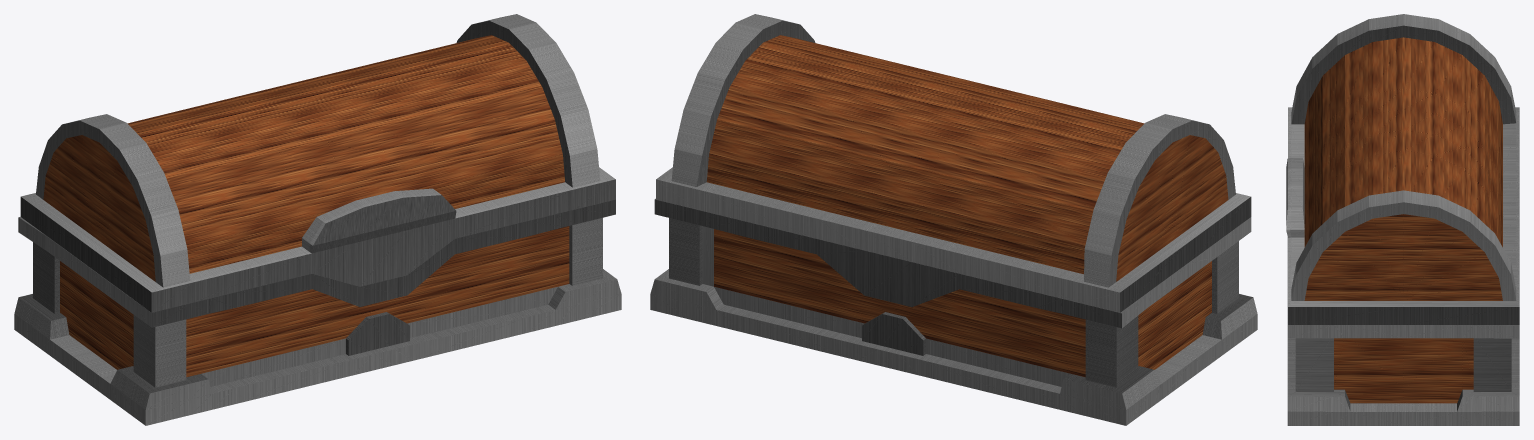
The model's file is Chest_2_1_1_Colored.fbx.
3 views of the same model, side by side, from view 1: azimuth 30°, elevation 25°; view 2: azimuth 150°, elevation 25°; view 3: azimuth 270°, elevation 25° (orthographic). The views are drawn at different scales.
Visible parts, largest first — view 1: Chest_Top, Chest_Bottom; view 2: Chest_Top, Chest_Bottom; view 3: Chest_Top, Chest_Bottom.
Part boxes in pixels (x1,y1,x2,y2): Chest_Top: (20, 14, 615, 312); Chest_Bottom: (14, 199, 621, 425); Chest_Top: (656, 14, 1251, 312); Chest_Bottom: (650, 198, 1257, 425); Chest_Top: (1286, 14, 1519, 324); Chest_Bottom: (1287, 237, 1519, 425).
Size of the model in its own units: 197 by 96.65 by 95.05.
Materials: 2 (2 with a texture image).
